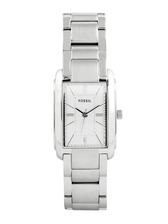watch: (50, 13, 125, 216)
